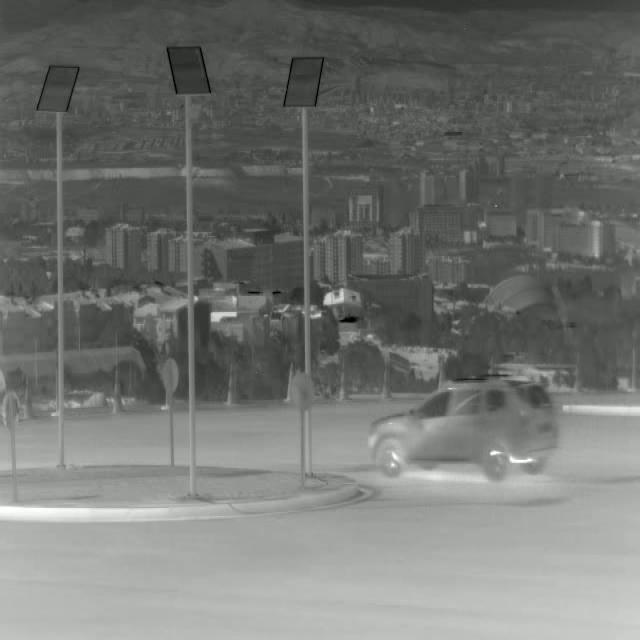Car: (368, 378, 564, 474)
